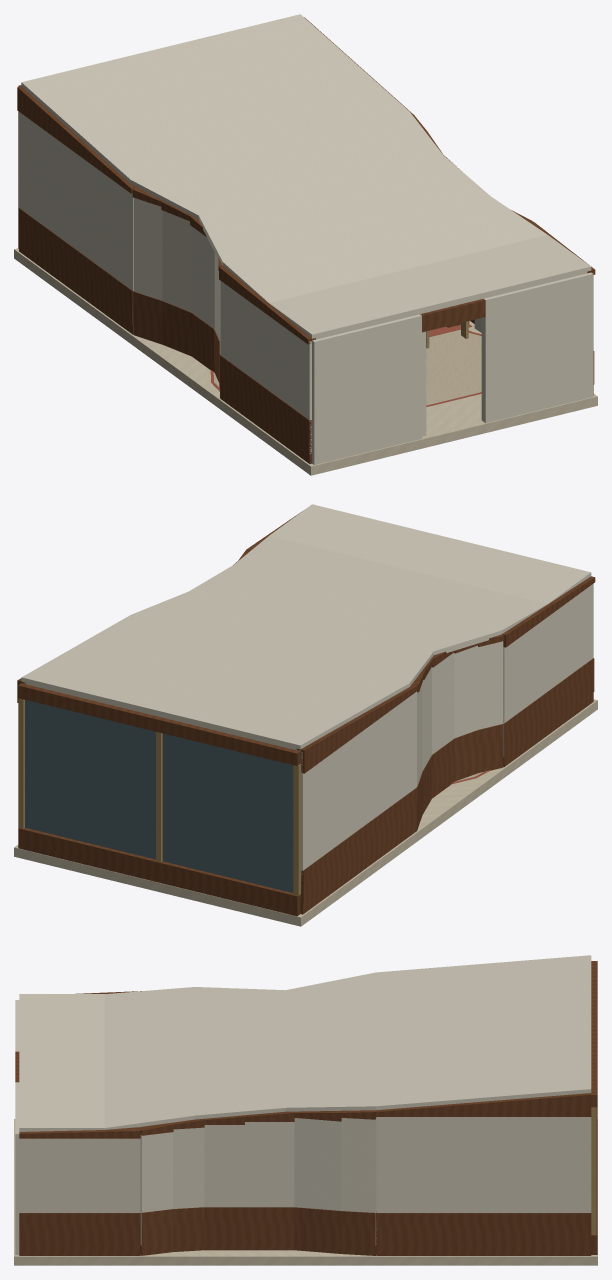
Rendered from shell.glb.
3 renders of one model, top to bottom at view 1: azimuth 30°, elevation 25°; view 2: azimuth 150°, elevation 25°; view 3: azimuth 270°, elevation 25°, orthographic.
Parts seen in each view (by area): view 1: FT_Runtime_ivory_enamel, FT_Runtime_warm_walnut, FT_Runtime_warm_stone, FT_Runtime_oatmeal_weave; view 2: FT_Runtime_ivory_enamel, FT_Runtime_FT_SourceDirectionalPrivacy_NOT_RUNTIME_ACCEPTED, FT_Runtime_warm_walnut, FT_Runtime_warm_stone, FT_Runtime_champagne_metal; view 3: FT_Runtime_ivory_enamel, FT_Runtime_warm_walnut, FT_Runtime_warm_stone, FT_Runtime_champagne_metal.
Part boxes in pixels (left/top/right/bottom): FT_Runtime_ivory_enamel: left=19, top=14, right=593, bottom=464; FT_Runtime_warm_walnut: left=17, top=17, right=595, bottom=463; FT_Runtime_warm_stone: left=14, top=248, right=597, bottom=475; FT_Runtime_oatmeal_weave: left=213, top=329, right=481, bottom=405; FT_Runtime_ivory_enamel: left=21, top=504, right=593, bottom=885; FT_Runtime_FT_SourceDirectionalPrivacy_NOT_RUNTIME_ACCEPTED: left=25, top=700, right=293, bottom=892; FT_Runtime_warm_walnut: left=17, top=511, right=595, bottom=916; FT_Runtime_warm_stone: left=14, top=699, right=597, bottom=926; FT_Runtime_champagne_metal: left=18, top=698, right=300, bottom=895; FT_Runtime_ivory_enamel: left=15, top=955, right=591, bottom=1254; FT_Runtime_warm_walnut: left=15, top=961, right=597, bottom=1255; FT_Runtime_warm_stone: left=14, top=1119, right=597, bottom=1265; FT_Runtime_champagne_metal: left=591, top=1107, right=596, bottom=1235.
Bounding box in the file's own units: 7.2 × 4.26 × 12.9.
Materials: 8 (6 with a texture image).
